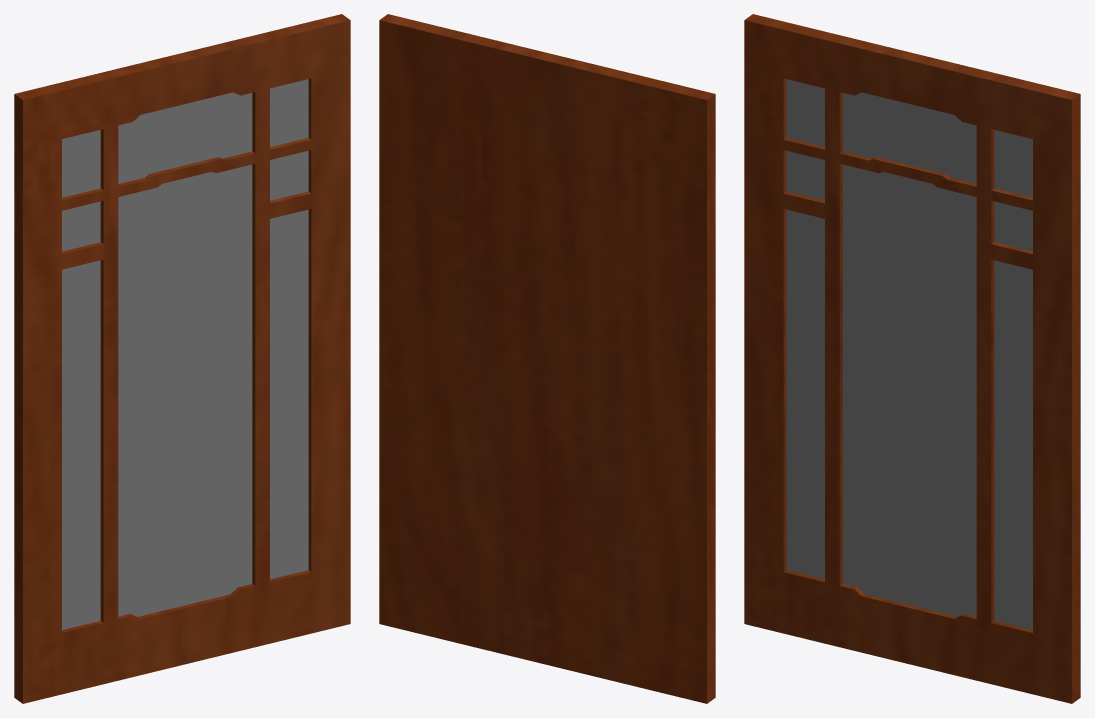
File: thorsen_glass_uppers.glb
3 renders of one model, left to right at view 1: azimuth 30°, elevation 25°; view 2: azimuth 150°, elevation 25°; view 3: azimuth 330°, elevation 25°, orthographic.
Bounding box in the file's own units: 0.4254 × 0.7493 × 0.019.
Materials: 2 (1 with a texture image).
